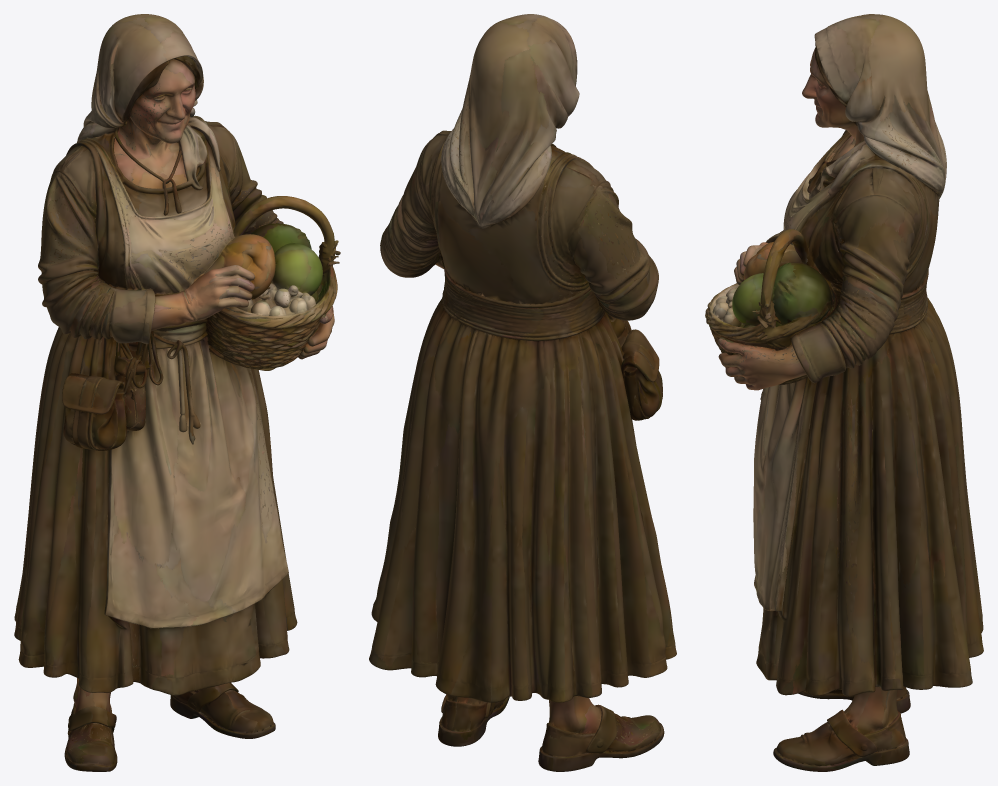
Rendered from merchant_wife.glb.
3 views of the same model, side by side, from view 1: azimuth 30°, elevation 25°; view 2: azimuth 150°, elevation 25°; view 3: azimuth 270°, elevation 25° (orthographic). The views are drawn at different scales.
Parts seen in each view (by area): view 1: material; view 2: material; view 3: material.
Part boxes in pixels (x1,y1,x2,y2): material: [14, 14, 340, 771]; material: [369, 14, 676, 771]; material: [705, 14, 983, 771].
Bounding box in the file's own units: 0.4839 × 1.15 × 0.407.
Materials: 1 (1 with a texture image).
